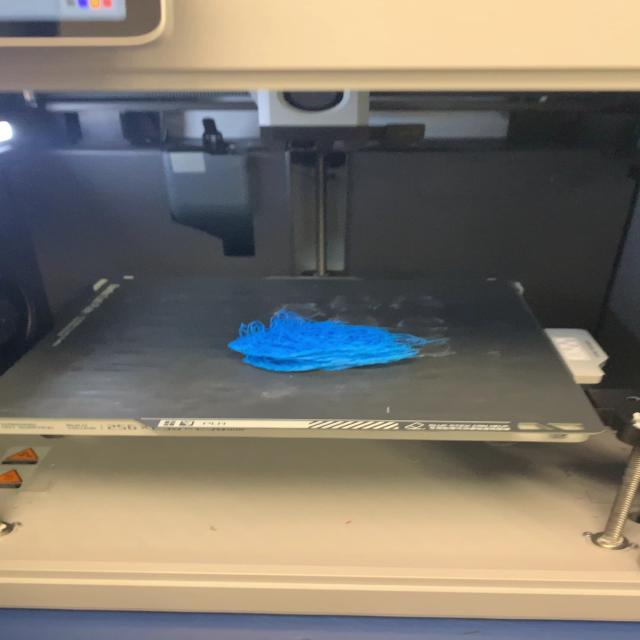spaghetti: (231, 287, 442, 385)
